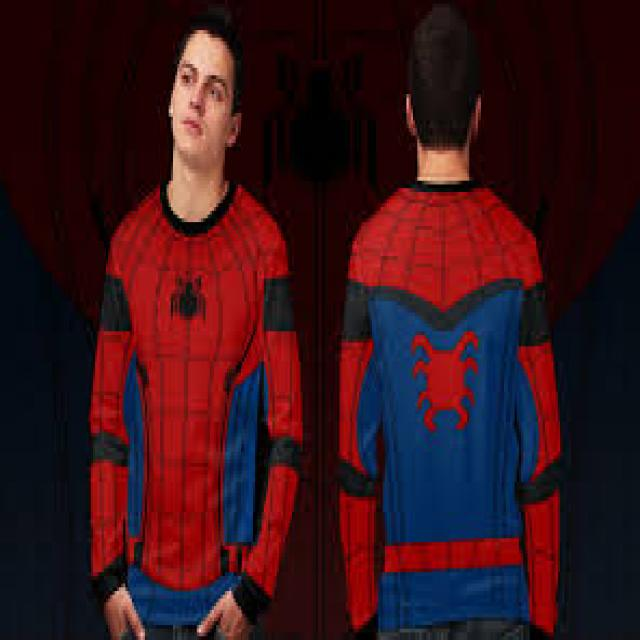Shirt: (327, 166, 562, 640), (82, 187, 298, 601)
